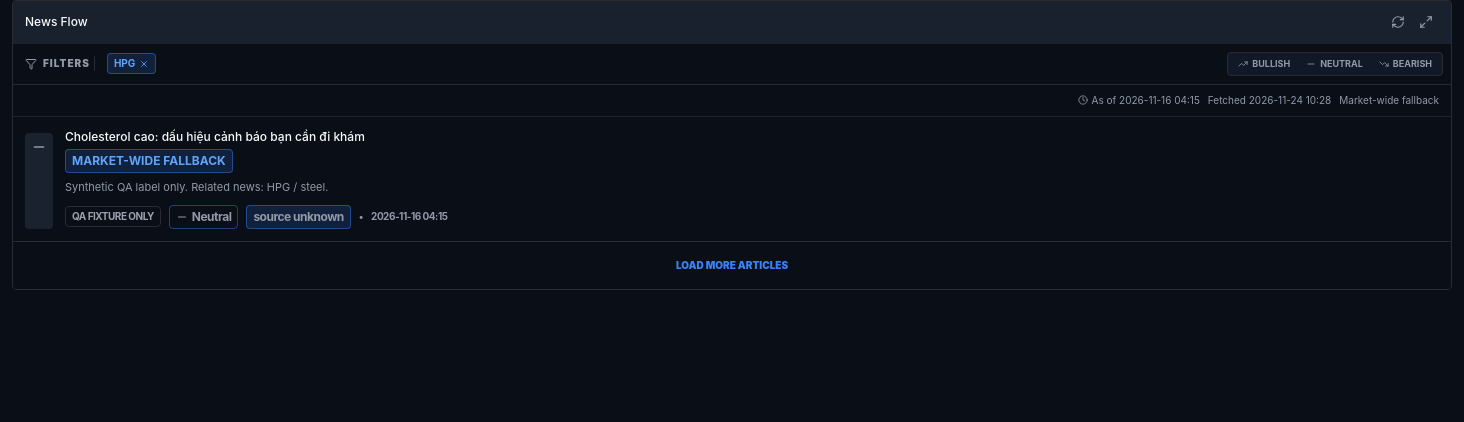
Test case: keeps a paginated stream with admitted rows a ticker feed
The image size is (1464, 422).
Expected: the link "Cholesterol cao" is shown, [13,116,1451,242]
Step 1. Click the button "Load More Articles" → (732, 265), box [13,242,1451,289]
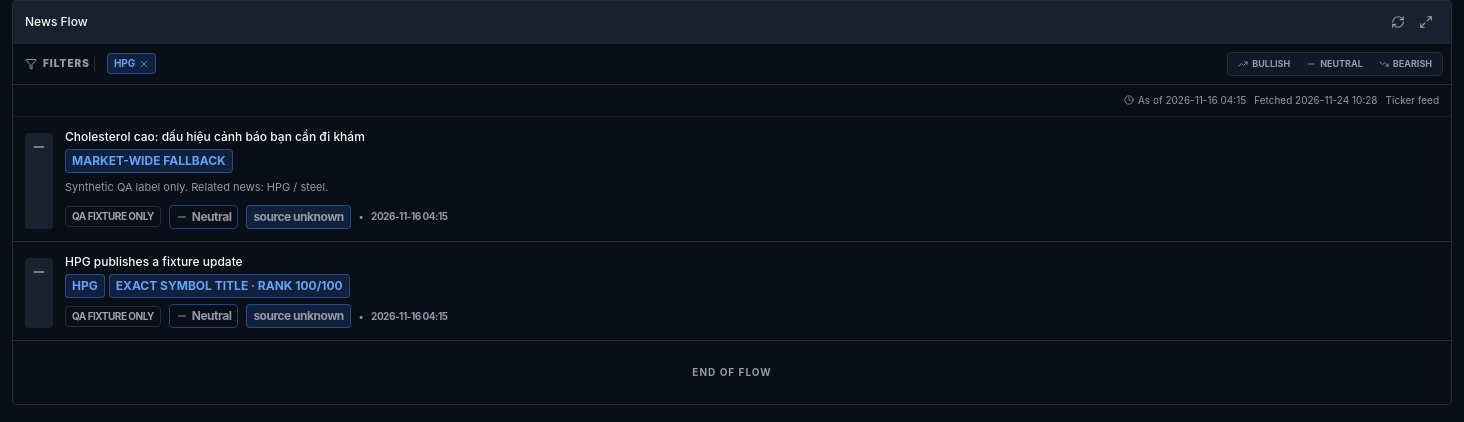
Expected: the element showing "HPG" is shown, [107,53,156,74]
Expected: the link "HPG publishes a fixture update" shows "rank 100/100", [13,242,1451,341]
Expected: the text "Ticker feed" is shown, [1386,92,1439,108]
